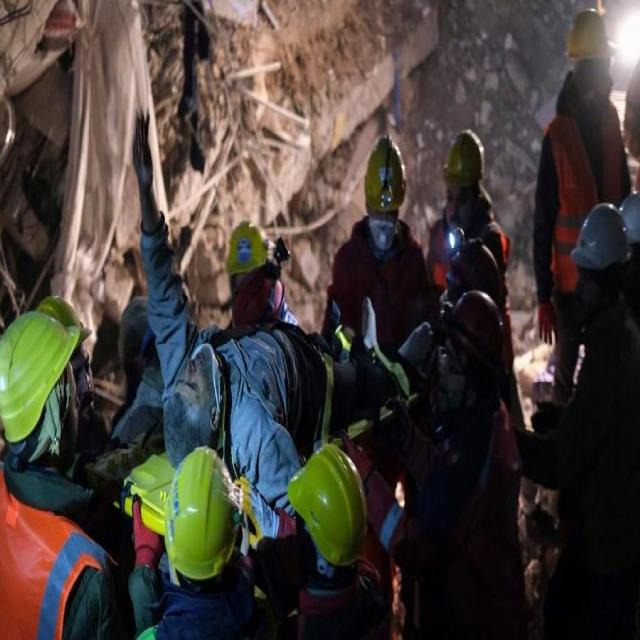Reflective-Jacket: (541, 94, 625, 297), (0, 487, 106, 640)
Safety-Helmet: (162, 443, 240, 584), (288, 443, 366, 573), (569, 198, 633, 280), (359, 130, 411, 220), (221, 210, 273, 279), (440, 124, 490, 195), (562, 2, 614, 68)
